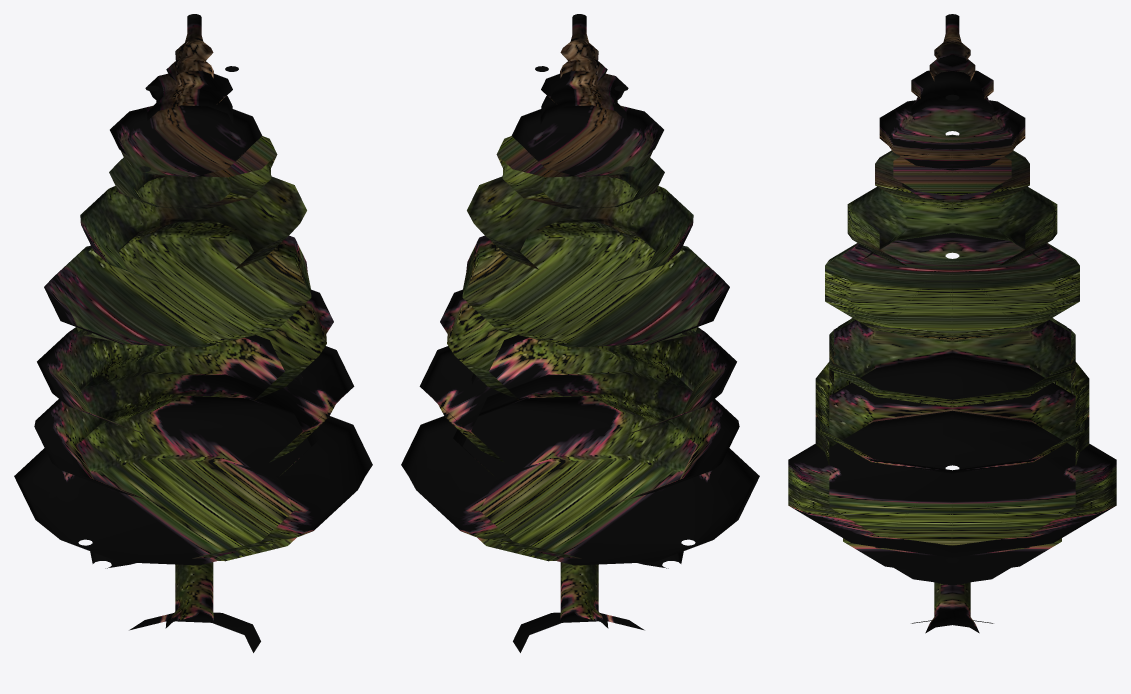
Rendered from oak.glb.
3 renders of one model, left to right at view 1: azimuth 30°, elevation 25°; view 2: azimuth 150°, elevation 25°; view 3: azimuth 270°, elevation 25°, orthographic.
Parts seen in each view (by area): view 1: solid; view 2: solid; view 3: solid.
Part boxes in pixels (bbox=[...]): solid: bbox=[14, 14, 372, 652]; solid: bbox=[401, 14, 759, 652]; solid: bbox=[788, 14, 1116, 633].
Bounding box in the file's own units: 0.5278 × 1 × 0.466.
1 material, 1 textured.
